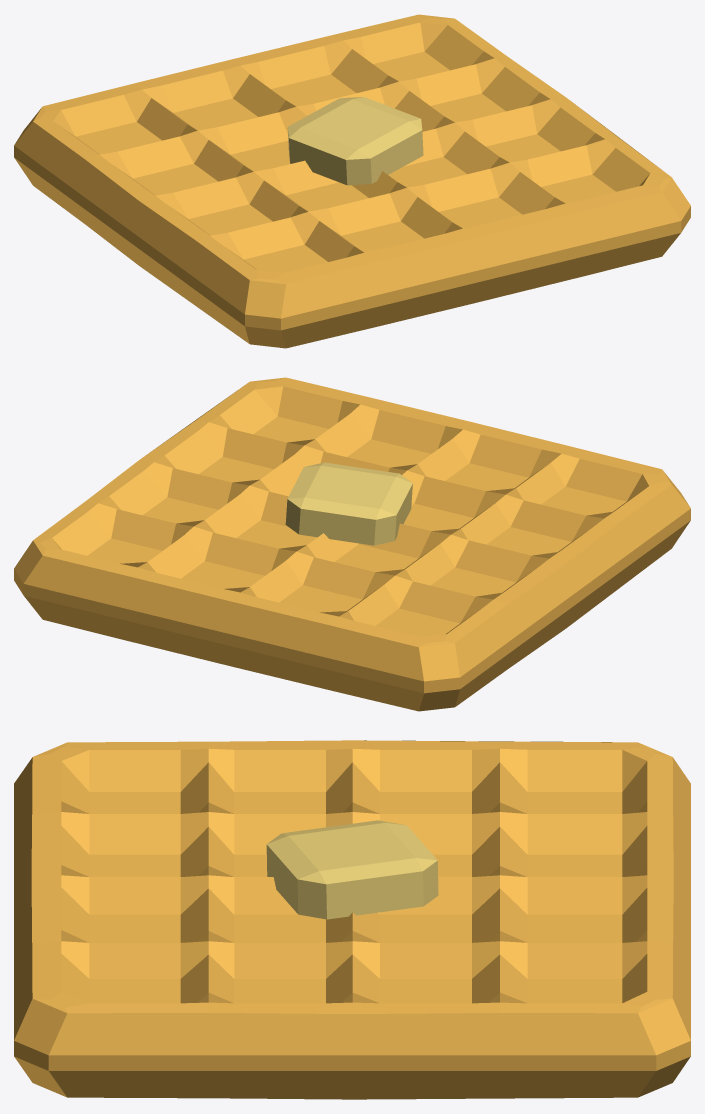
File: waffle.glb
3 renders of one model, top to bottom at view 1: azimuth 30°, elevation 25°; view 2: azimuth 150°, elevation 25°; view 3: azimuth 270°, elevation 25°, orthographic. The views are drawn at different scales.
Visible parts, largest first — view 1: Cube; view 2: Cube; view 3: Cube.
Boxes of the visible parts, <box> form: Cube: <box>14,14,690,348</box>; Cube: <box>14,377,690,711</box>; Cube: <box>14,740,690,1099</box>.
Size of the model in its own units: 2.11 by 0.4182 by 2.1.
Materials: 1 (1 with a texture image).
